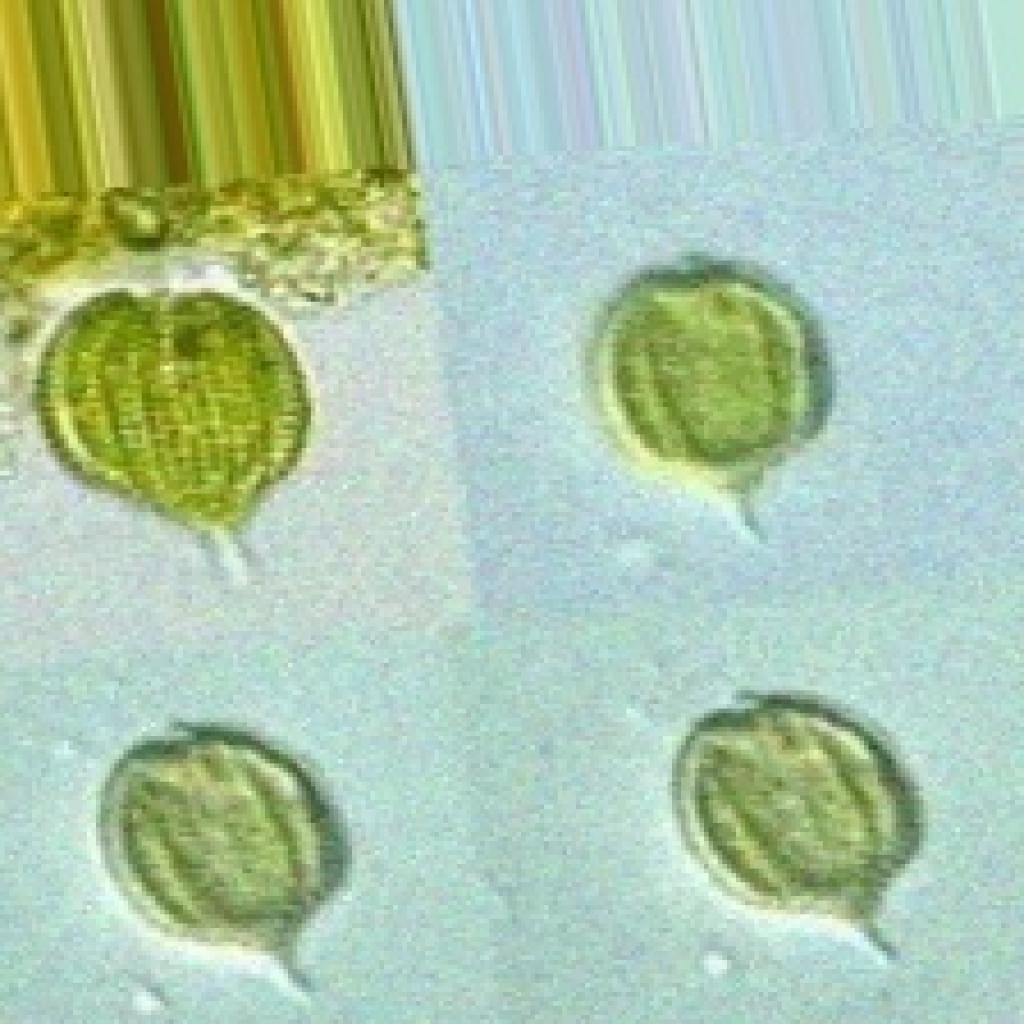Microalgae: (0, 245, 453, 606), (602, 677, 990, 1020), (50, 664, 432, 998), (92, 718, 348, 1001), (585, 251, 832, 535), (668, 686, 924, 960)
